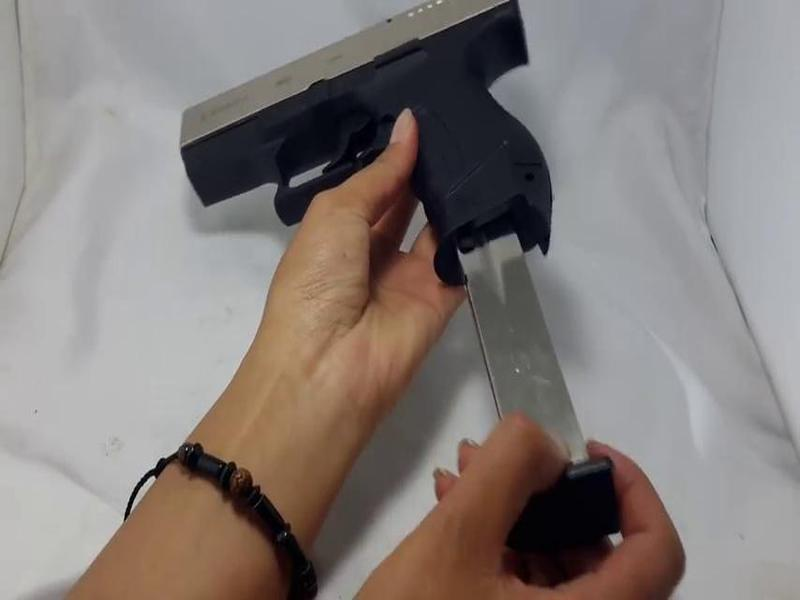Pistola: (156, 1, 576, 265)
